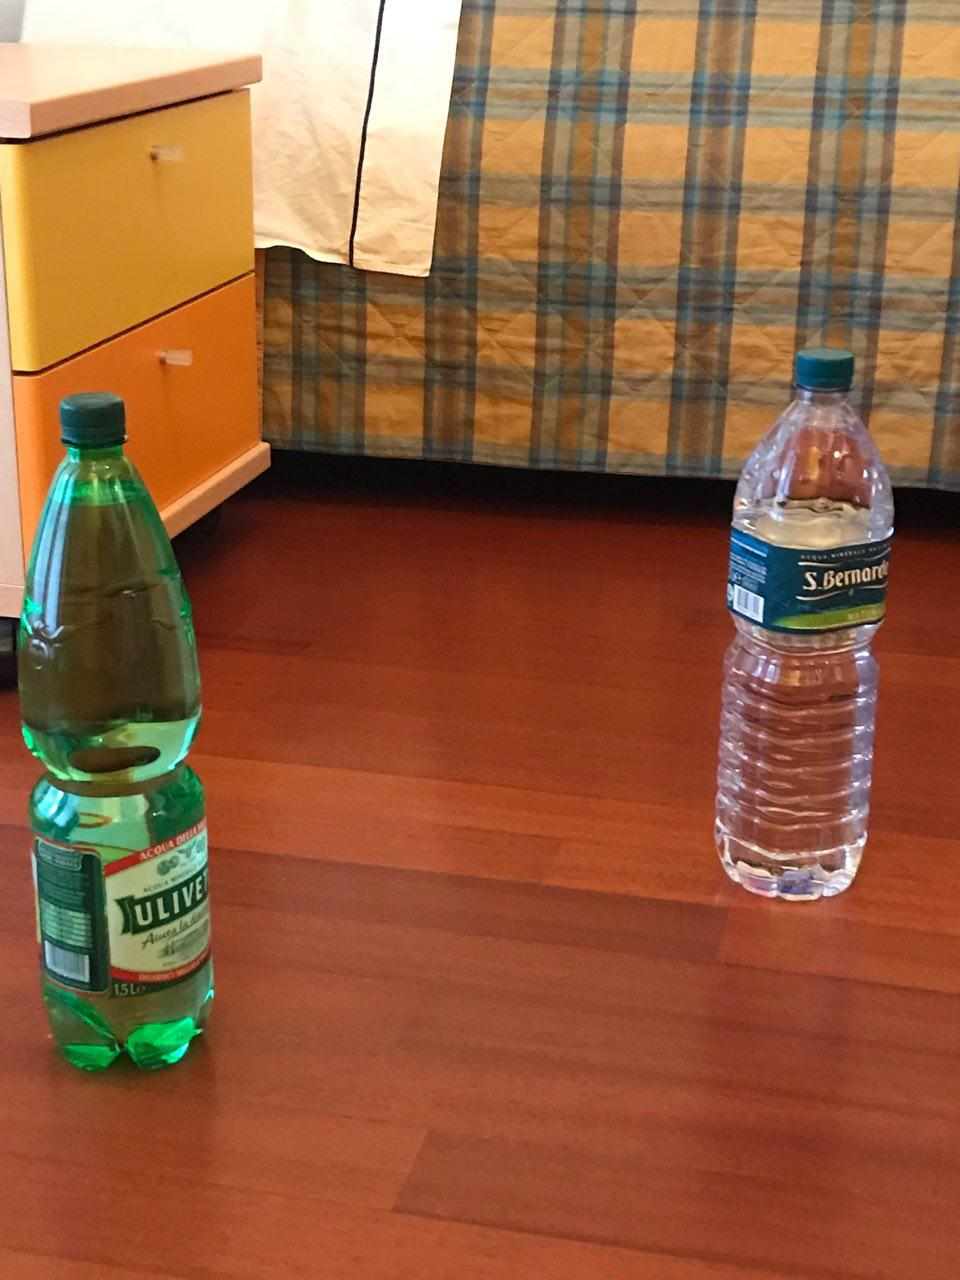san_bernardo: (712, 346, 895, 902)
